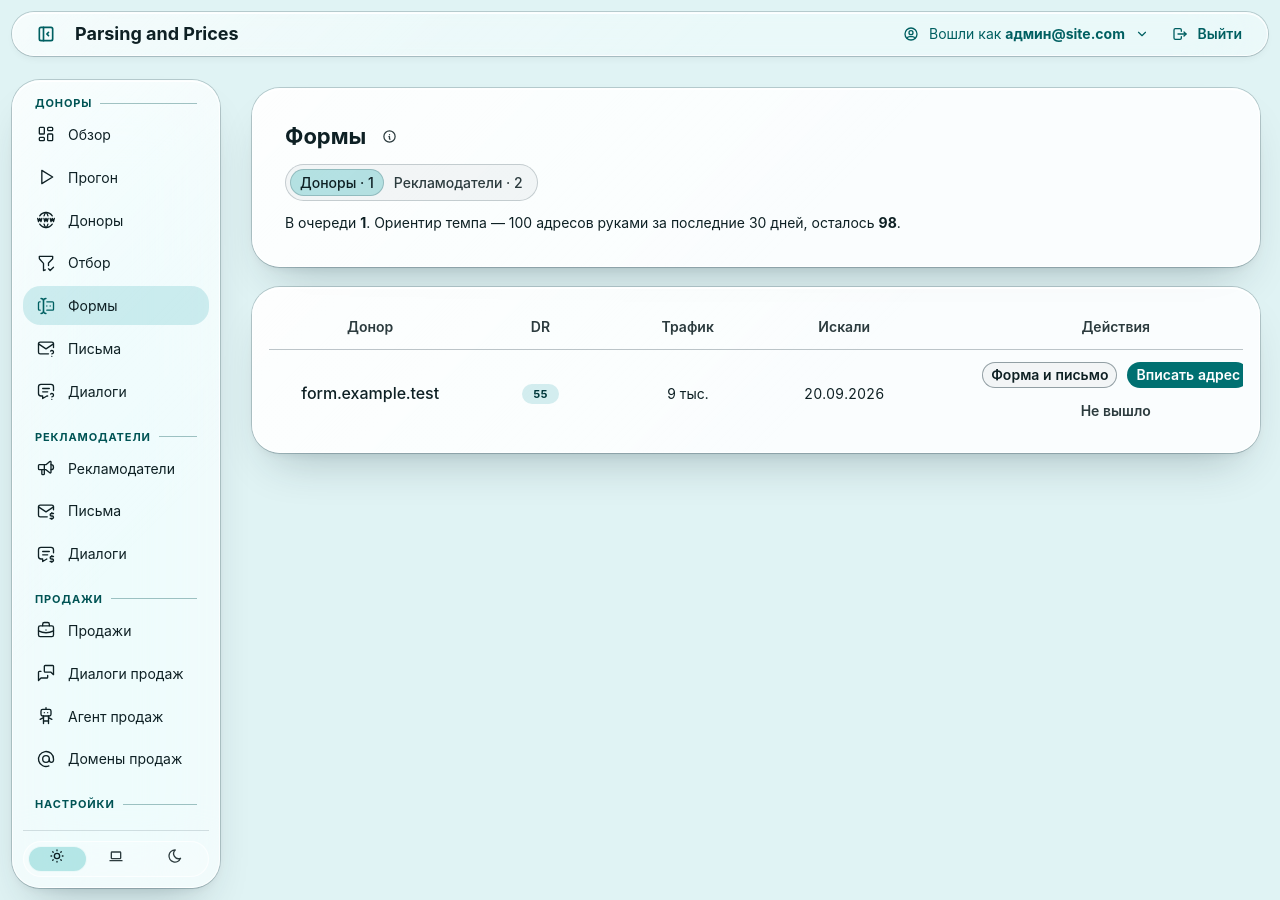
формы: вкладка рекламодателей › вкладка — в адресе; строка — откуда рекламодатель и его балл
Expected: the link "form.example.test" is shown, [301,381,439,406]
Click the text "Рекламодатели · 2".
click(458, 183)  # box [394,172,523,194]
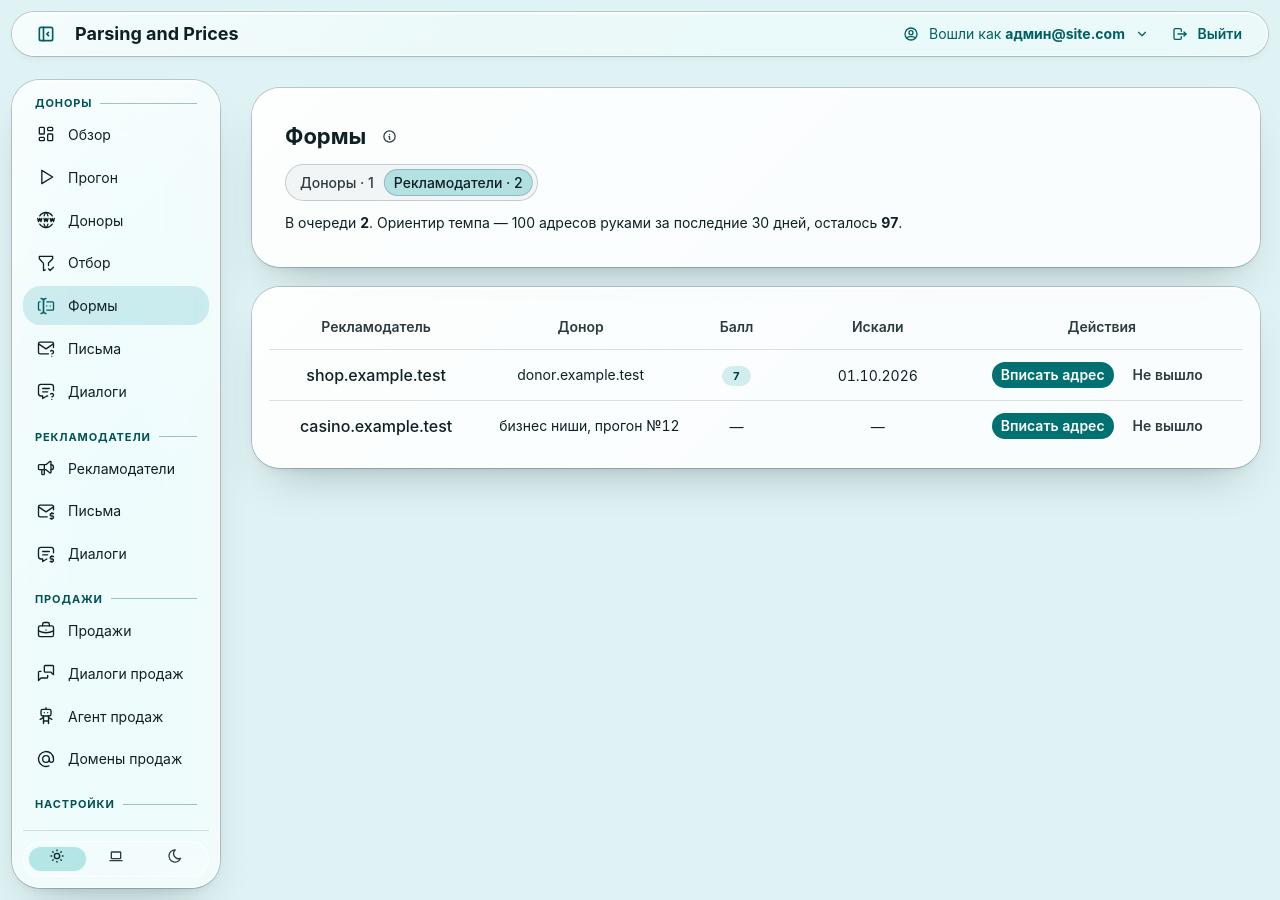
Now the text "donor.example.test" is shown, box [517,366,644,383]
Now the text "7" is shown, box [733,368,740,386]
Now the text "бизнес ниши, прогон №12" is shown, box [499,416,662,437]
